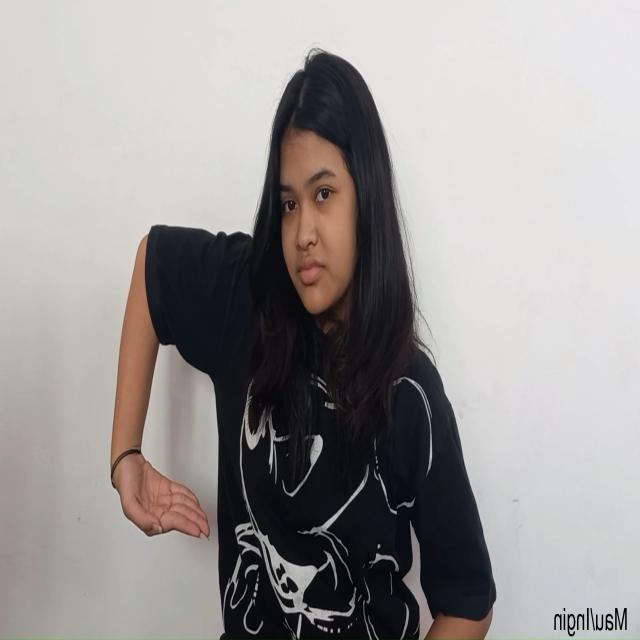Mau-Ingin -BISINDO-: (108, 447, 212, 544)
